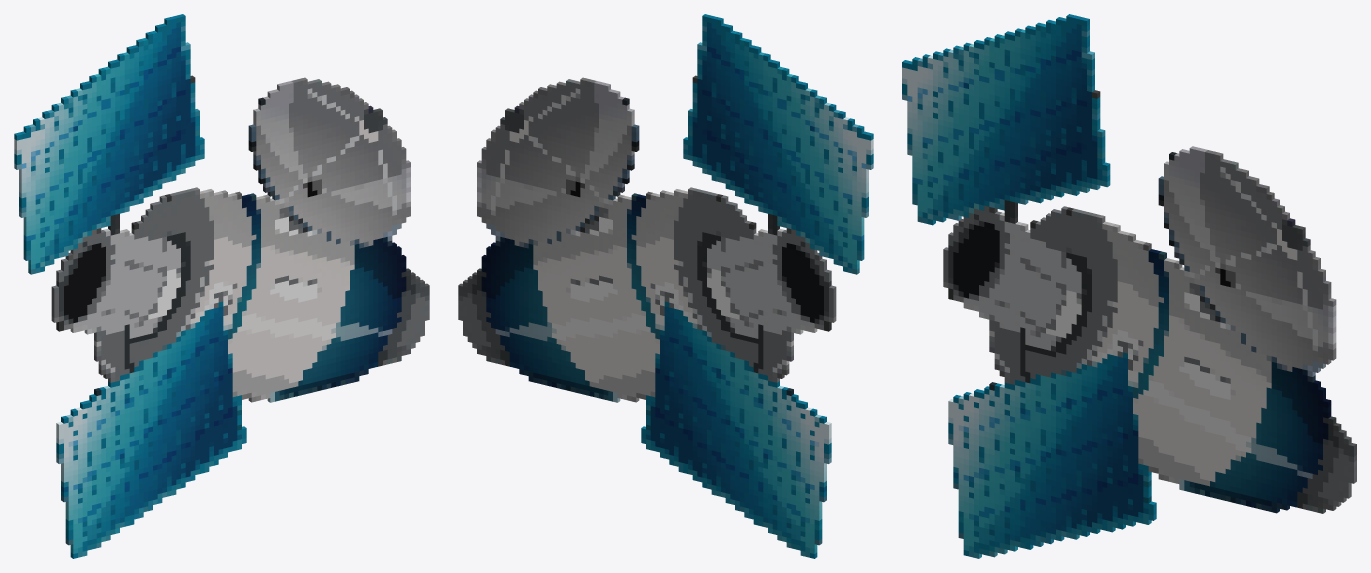
File: moon_88x105x1.obj
3 renders of one model, left to right at view 1: azimuth 30°, elevation 25°; view 2: azimuth 150°, elevation 25°; view 3: azimuth 330°, elevation 25°, orthographic. The views are drawn at different scales.
Size of the model in its own units: 8.46 by 10.1 by 0.0962.
